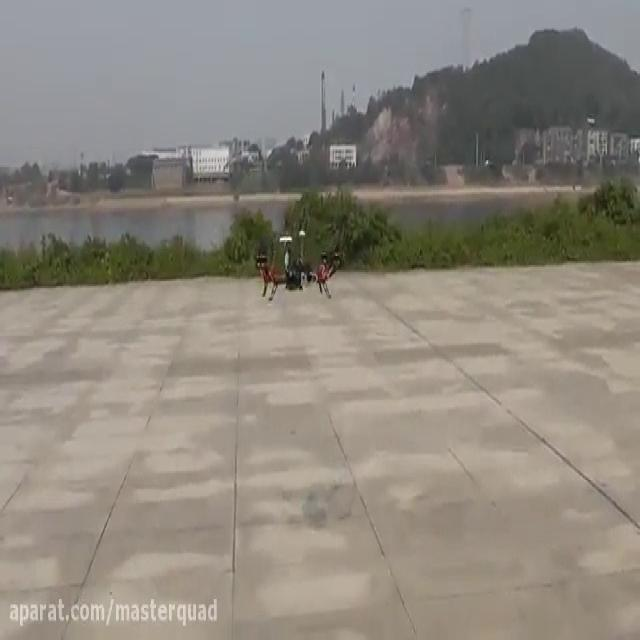drone: (253, 224, 345, 302)
